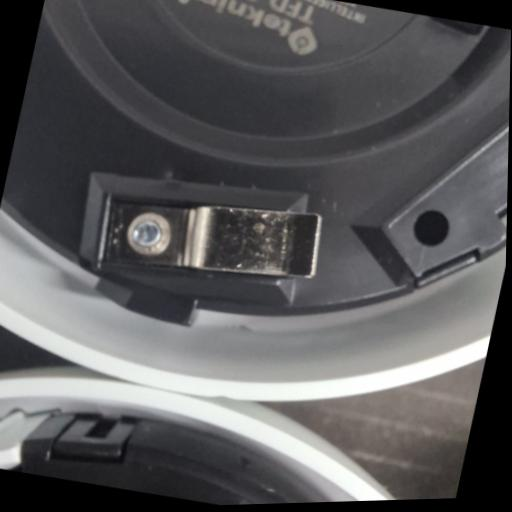yaysiz: (85, 169, 328, 308)
